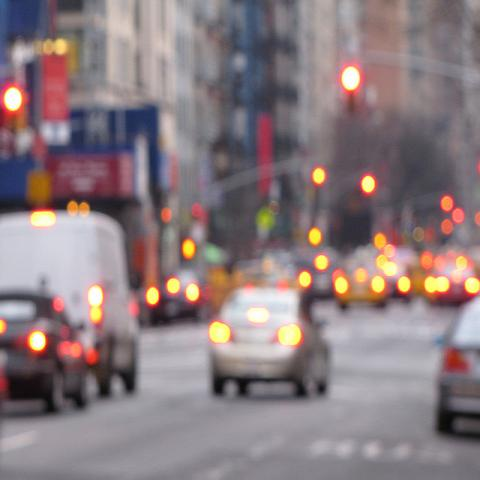car: (206, 286, 333, 398), (0, 290, 93, 418), (435, 294, 479, 431), (333, 251, 391, 311), (149, 268, 207, 325), (416, 260, 478, 306)
truck: (0, 199, 143, 397)
